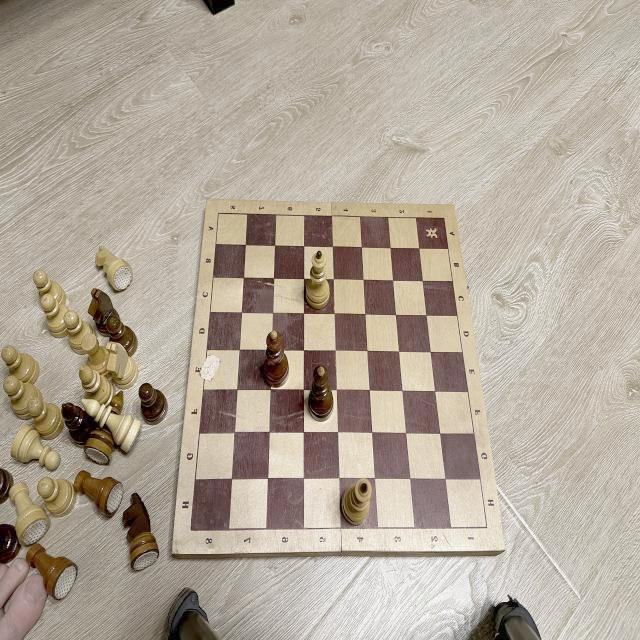chess-table-corners: (186, 521, 196, 539), (482, 518, 492, 536), (440, 212, 448, 222), (214, 210, 223, 218)
